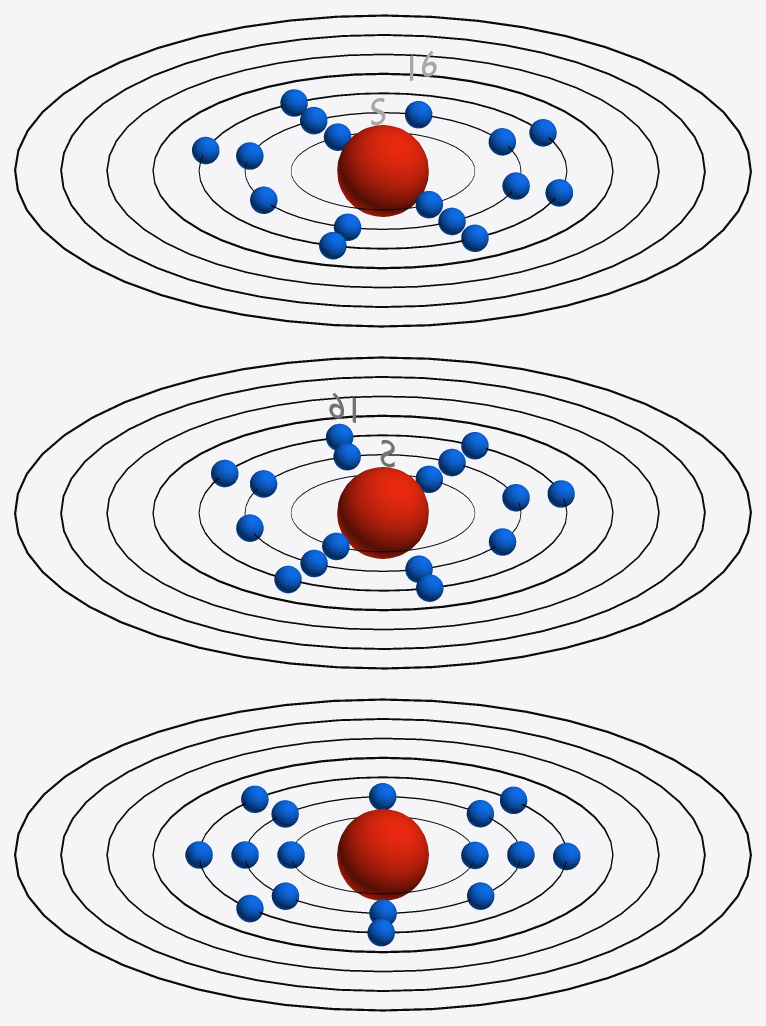
The picture shows the model from 3 angles, top to bottom: view 1: azimuth 30°, elevation 25°; view 2: azimuth 150°, elevation 25°; view 3: azimuth 270°, elevation 25°; orthographic projection.
Visible parts, largest first — view 1: Proton, S2, n7, n6, S3, n5, n4, n3, S1, n2; view 2: Proton, S2, n7, n6, S3, n5, n4, n3, S1, n2; view 3: Proton, S2, n7, n6, S3, n5, n4, n3, S1, n2, n1.
Boxes of the visible parts, x1,y1,x2,y2 form: Proton: [337, 125, 428, 216]; S2: [236, 101, 529, 240]; n7: [14, 14, 751, 327]; n6: [60, 34, 705, 307]; S3: [192, 89, 572, 259]; n5: [106, 53, 659, 288]; n4: [152, 72, 613, 269]; n3: [198, 92, 567, 249]; S1: [323, 123, 442, 218]; n2: [244, 112, 521, 229]; Proton: [337, 467, 428, 558]; S2: [236, 443, 529, 582]; n7: [14, 356, 751, 669]; n6: [60, 376, 705, 649]; S3: [211, 423, 574, 601]; n5: [106, 395, 659, 630]; n4: [152, 414, 613, 611]; n3: [198, 434, 567, 591]; S1: [322, 465, 442, 560]; n2: [244, 454, 521, 571]; Proton: [337, 809, 428, 900]; S2: [231, 783, 534, 923]; n7: [14, 698, 751, 1011]; n6: [60, 718, 705, 991]; S3: [185, 785, 580, 946]; n5: [106, 737, 659, 972]; n4: [152, 756, 613, 953]; n3: [199, 776, 566, 933]; S1: [277, 841, 488, 869]; n2: [245, 796, 520, 913]; n1: [292, 817, 473, 894].
Bounding box in the file's own units: 802 × 180 × 802.
